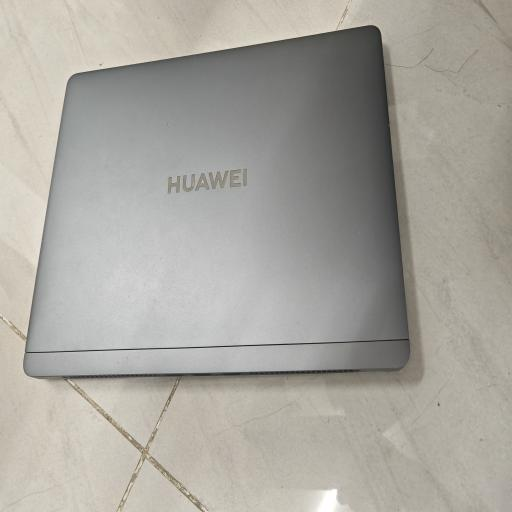laptop: (24, 26, 409, 377)
